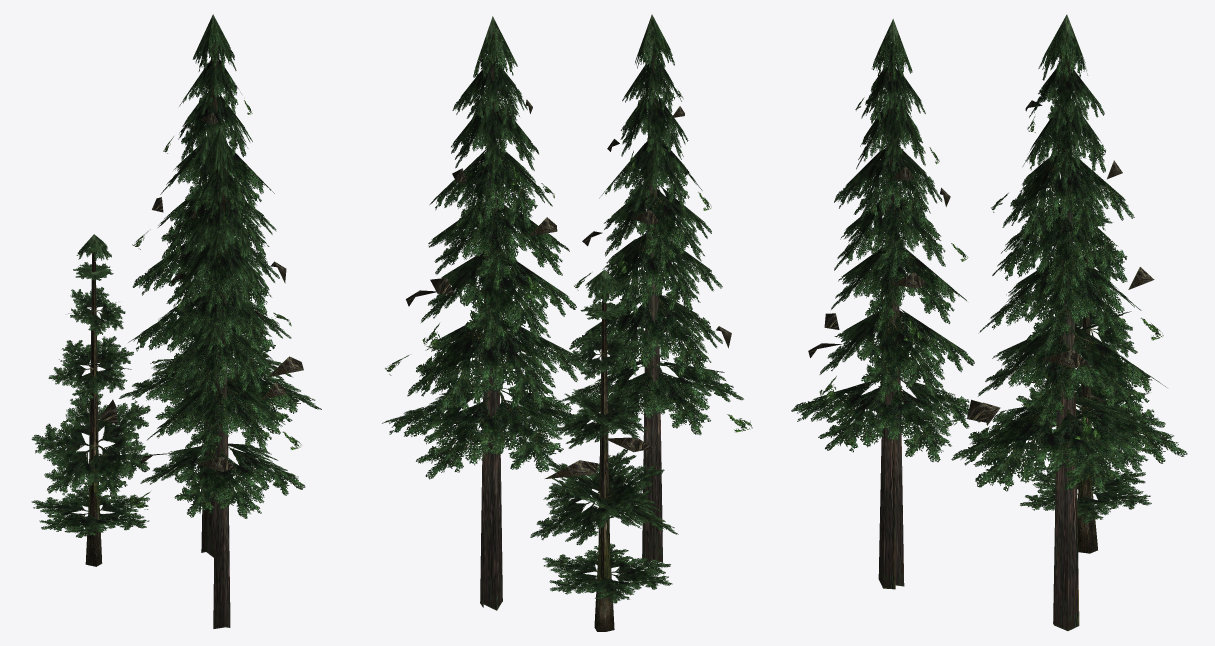
Rendered from campaign_trees_pines_2.dae.
3 renders of one model, left to right at view 1: azimuth 30°, elevation 25°; view 2: azimuth 150°, elevation 25°; view 3: azimuth 270°, elevation 25°, orthographic. The views are drawn at different scales.
Visible parts, largest first — view 1: Object002; view 2: Object002; view 3: Object002.
Part boxes in pixels (left/top/right/bottom): Object002: left=31, top=14, right=321, bottom=628; Object002: left=382, top=14, right=752, bottom=631; Object002: left=791, top=14, right=1187, bottom=630.
Size of the model in its own units: 4.56 by 8.18 by 5.08.
